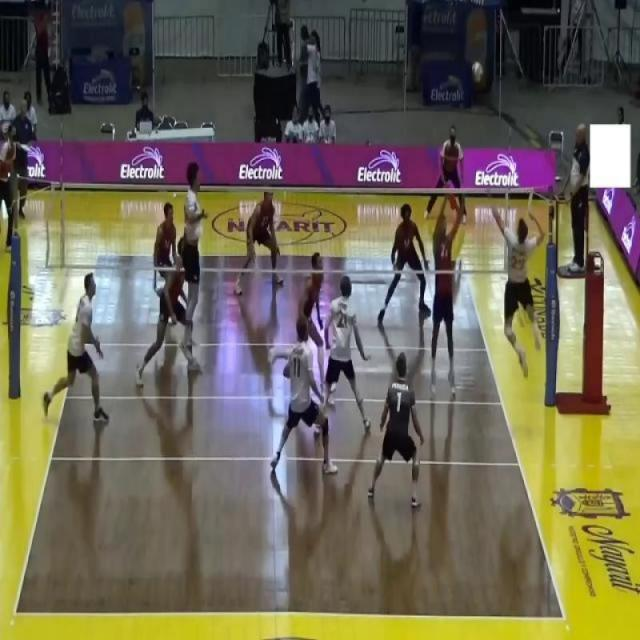volleyball: (472, 59, 484, 87)
